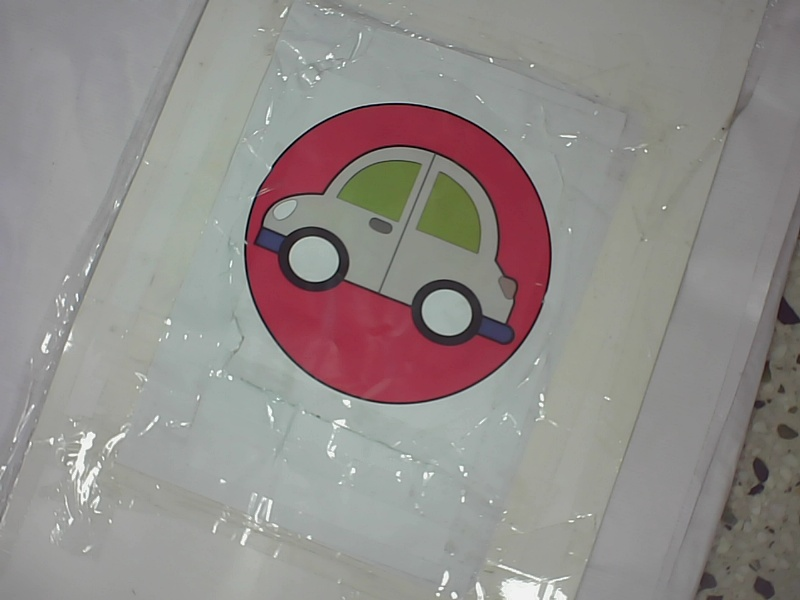areaC: (232, 95, 579, 409)
